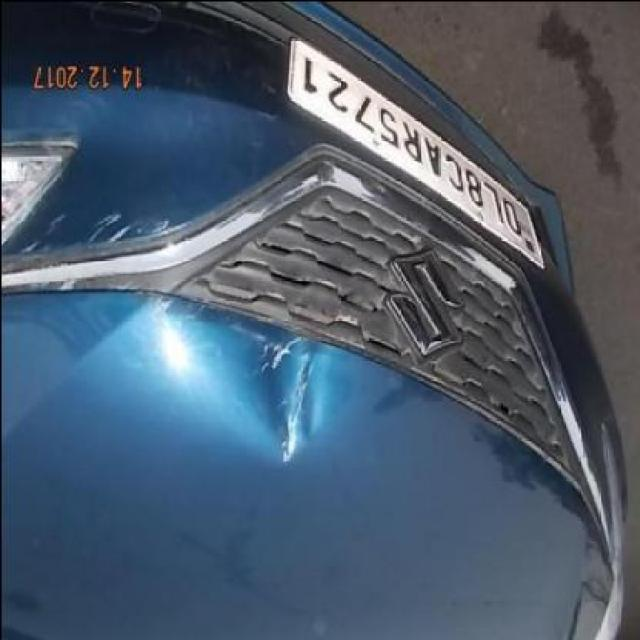damage: (156, 297, 328, 461)
